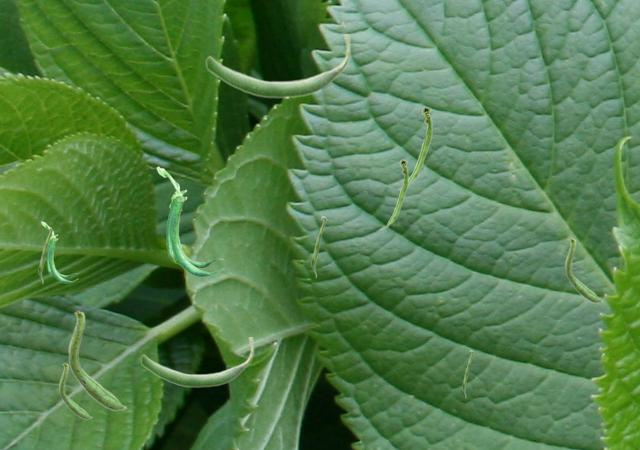french_bean: (205, 34, 350, 98), (156, 166, 223, 276), (68, 309, 126, 410), (140, 337, 253, 387), (397, 106, 431, 189), (565, 237, 602, 302), (41, 221, 77, 282), (379, 159, 407, 229), (59, 362, 91, 418), (311, 216, 325, 277), (38, 227, 51, 283), (462, 350, 472, 397)
